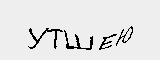Е: (99, 32, 115, 51)
Т: (47, 25, 63, 50)
У: (25, 26, 48, 51)
Ш: (63, 30, 95, 51)
Ю: (116, 23, 134, 46)
